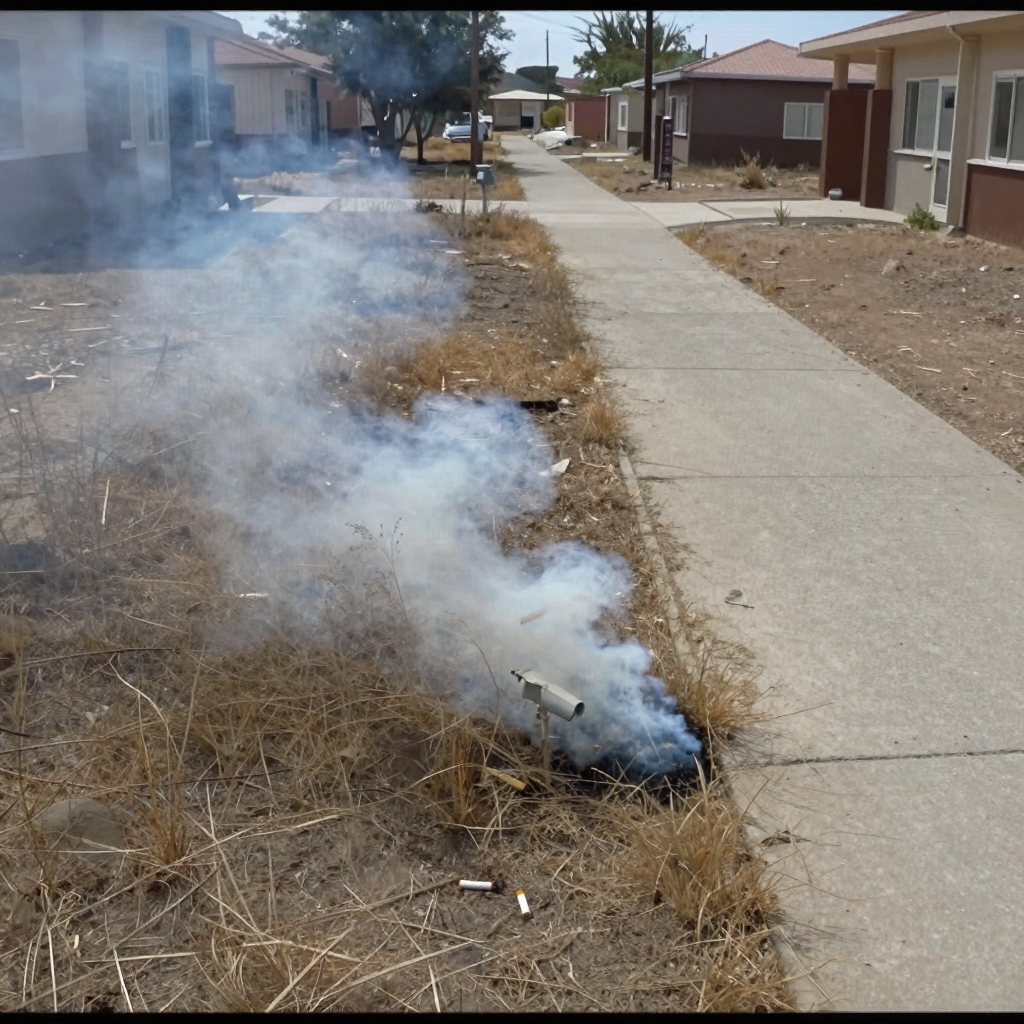Explosion: (0, 0, 719, 776)
